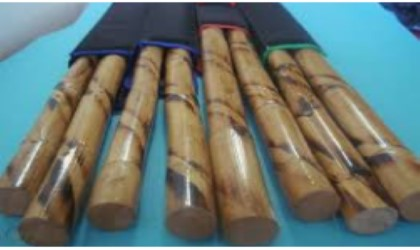baston_e: (269, 58, 393, 200), (296, 54, 420, 190), (227, 30, 328, 186), (28, 63, 127, 209), (200, 30, 277, 211), (1, 59, 95, 177), (93, 50, 163, 192), (163, 52, 215, 199)
baston_v: (332, 177, 398, 238), (86, 175, 143, 237), (161, 188, 220, 245), (284, 174, 343, 228), (13, 201, 79, 248), (218, 203, 282, 250), (387, 140, 420, 230), (0, 170, 34, 215)
